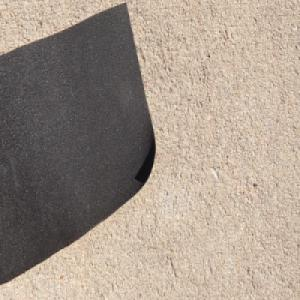PaintChip: (0, 9, 156, 285)
